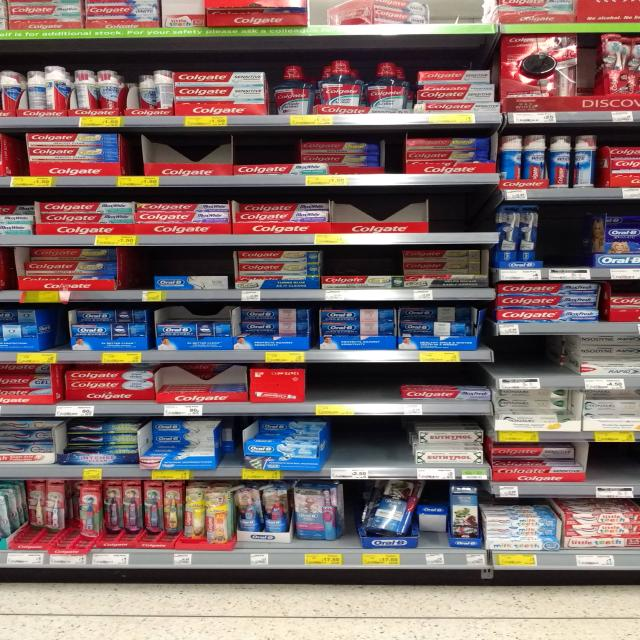empty: (124, 127, 302, 179), (333, 182, 500, 233), (326, 420, 417, 473), (297, 363, 404, 408), (539, 206, 599, 274), (490, 333, 575, 380), (586, 440, 640, 486)
